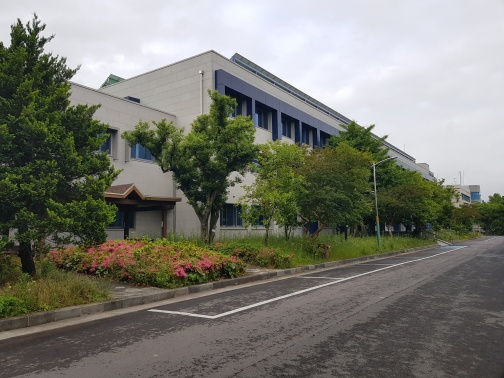College of Social Sciences: (61, 38, 438, 238)
